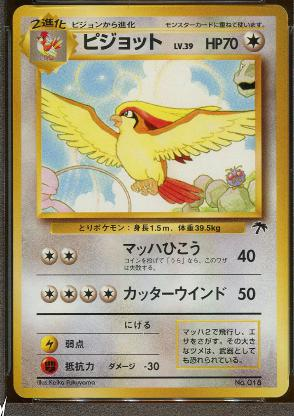Card: (12, 5, 288, 397)
